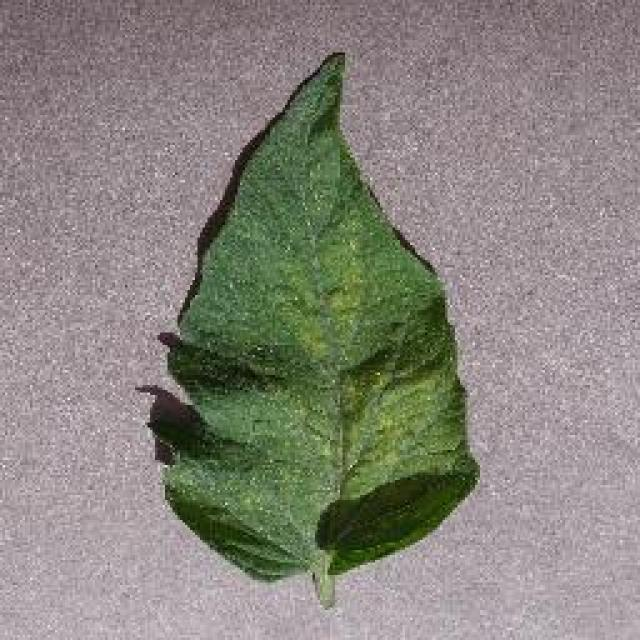Tomato mosaic virus leaf: (149, 47, 479, 585)
